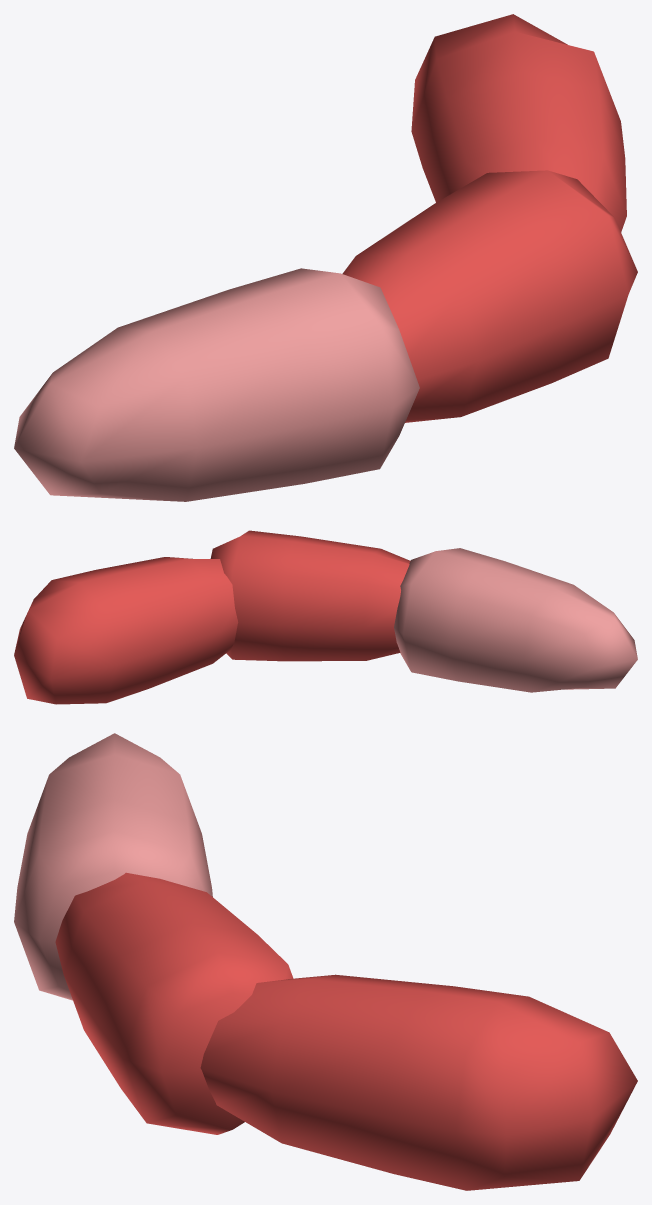
Rendered from Crab_1_Claw_2.fbx.
3 renders of one model, top to bottom at view 1: azimuth 30°, elevation 25°; view 2: azimuth 150°, elevation 25°; view 3: azimuth 270°, elevation 25°, orthographic. The views are drawn at different scales.
Parts seen in each view (by area): view 1: Crab_1_Claw_2; view 2: Crab_1_Claw_2; view 3: Crab_1_Claw_2.
Boxes of the visible parts, left/top/right/bottom form: Crab_1_Claw_2: left=14, top=14, right=637, bottom=501; Crab_1_Claw_2: left=14, top=530, right=637, bottom=704; Crab_1_Claw_2: left=14, top=733, right=637, bottom=1190.
Size of the model in its own units: 13.43 by 3.15 by 9.56.
